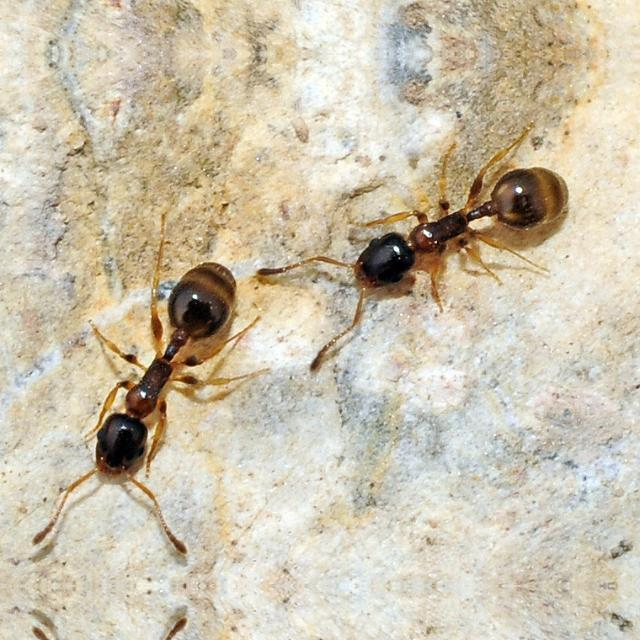Temnothorax: (41, 225, 278, 523), (296, 136, 592, 330)
